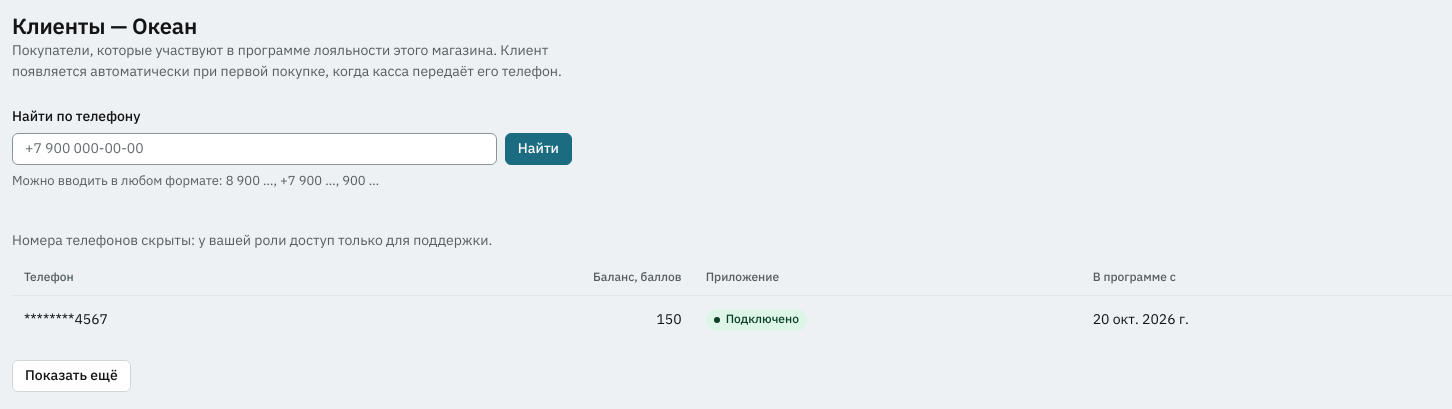
ClientsPage › hides history without transactions.read and explains masked phones
The width and height of the screenshot is (1452, 409).
Expected: the text "Номера телефонов скрыты" is shown, [12,231,492,249]
Step 1. Click the button named "Открыть клиента ********4567" → (66,319), box [24,308,108,330]
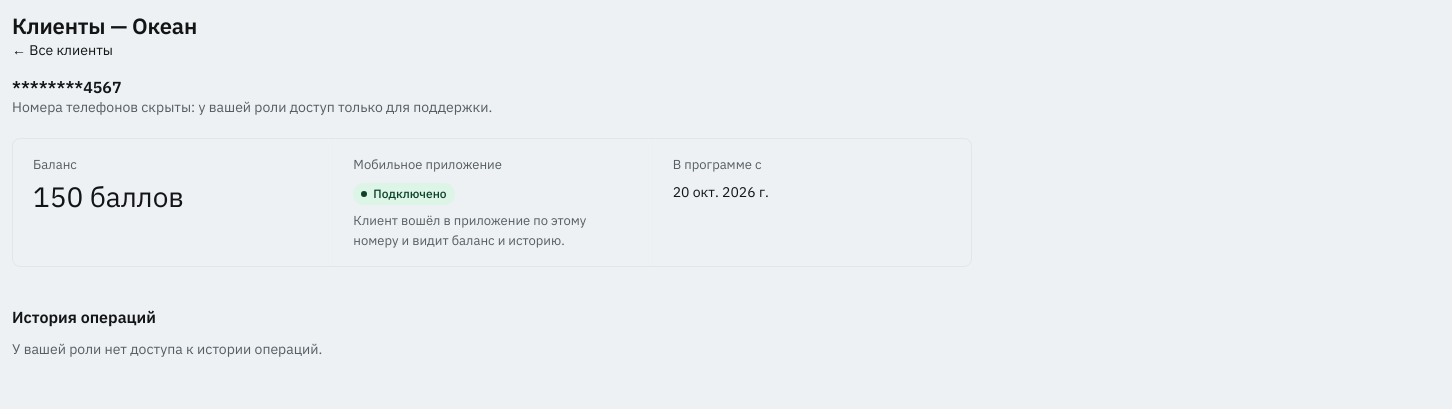
Result: the text "У вашей роли нет доступа к истории операций." is shown at [12,340,322,358]
